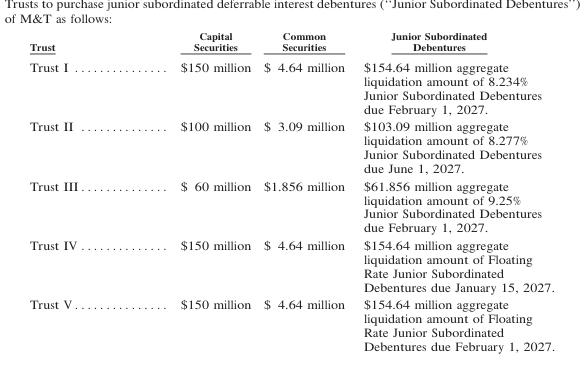table: (29, 28, 554, 353)
table column: (353, 28, 554, 353), (29, 28, 173, 353), (256, 28, 353, 353), (173, 28, 256, 353)
table column header: (29, 28, 554, 40)
table row: (29, 55, 554, 116), (29, 175, 554, 235), (29, 116, 554, 175), (29, 235, 554, 294), (29, 294, 554, 353), (29, 40, 554, 55), (29, 28, 554, 40)
